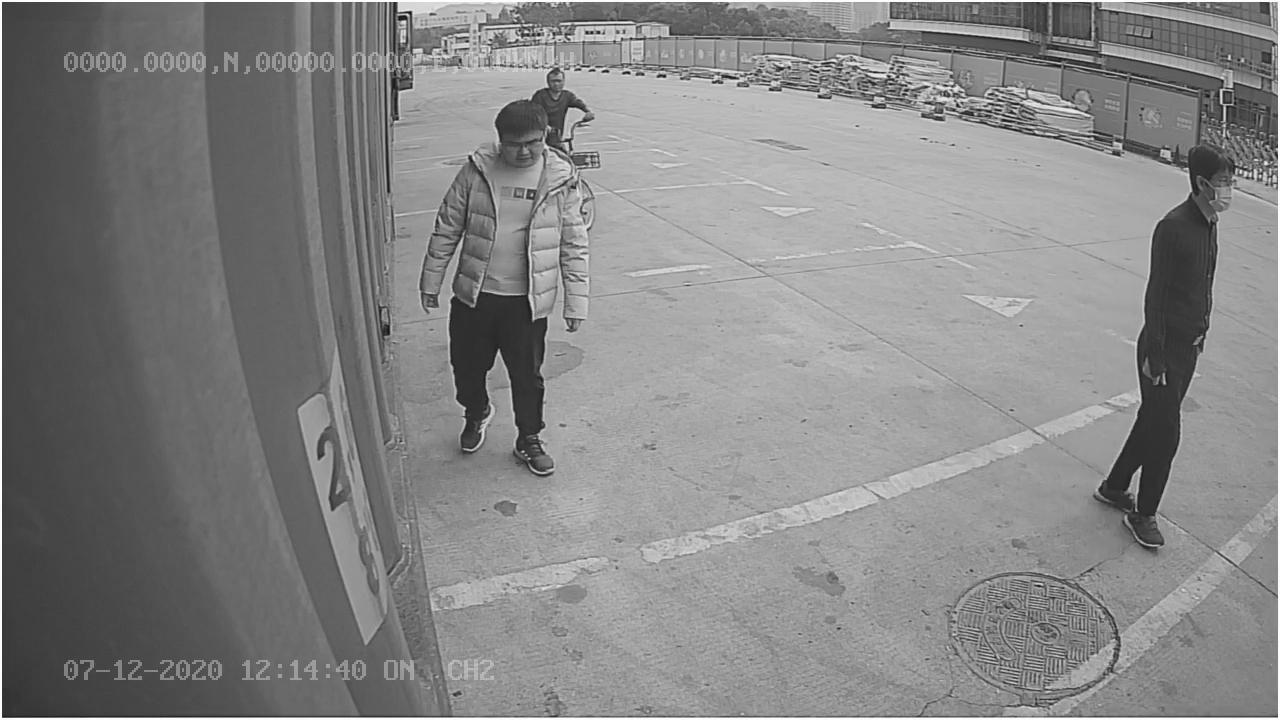person: (1086, 135, 1244, 550)
